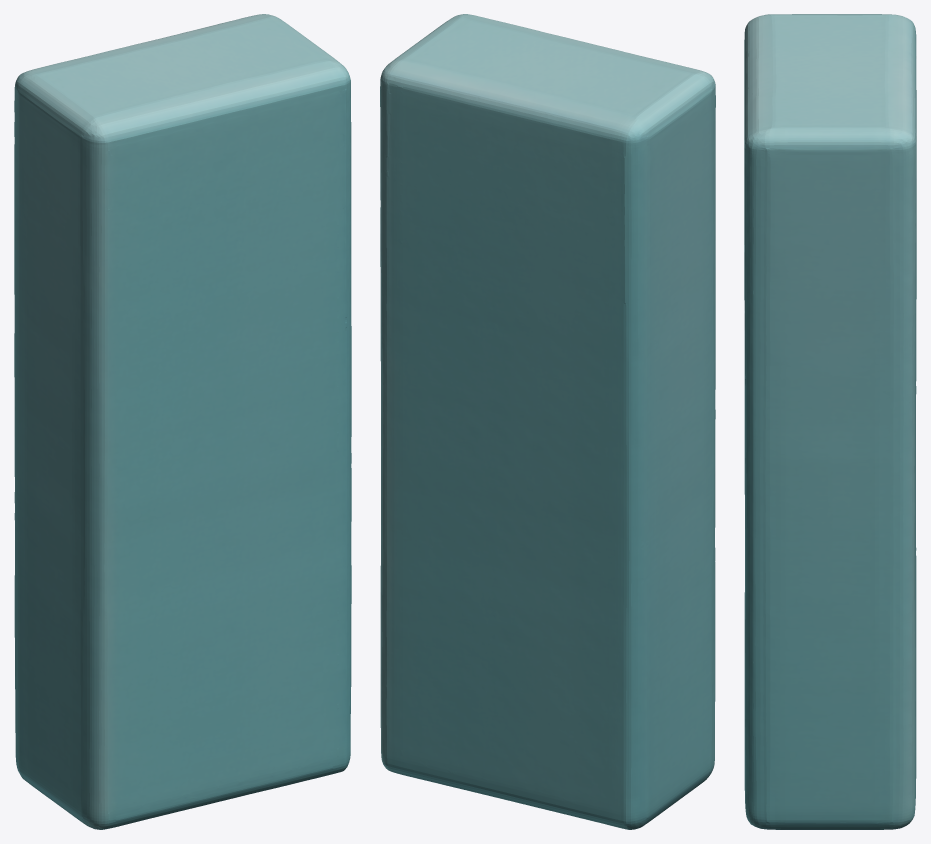
File: obj2_scaled_obb.glb
3 views of the same model, side by side, from view 1: azimuth 30°, elevation 25°; view 2: azimuth 150°, elevation 25°; view 3: azimuth 270°, elevation 25° (orthographic).
Visible parts, largest first — view 1: world; view 2: world; view 3: world.
Boxes of the visible parts, bbox=[...] form: world: bbox=[14, 14, 351, 829]; world: bbox=[380, 14, 715, 829]; world: bbox=[744, 14, 916, 829].
Size of the model in its own units: 0.035 by 0.0885 by 0.0198.
